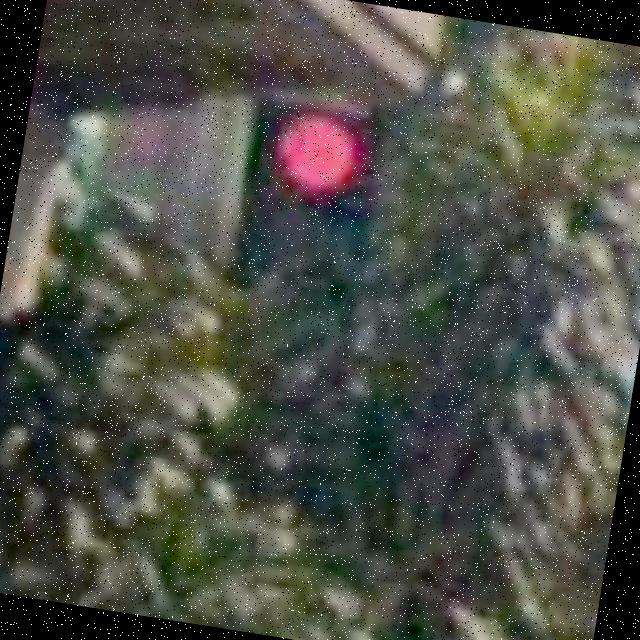Czerwone swiatlo: (236, 100, 398, 284)
